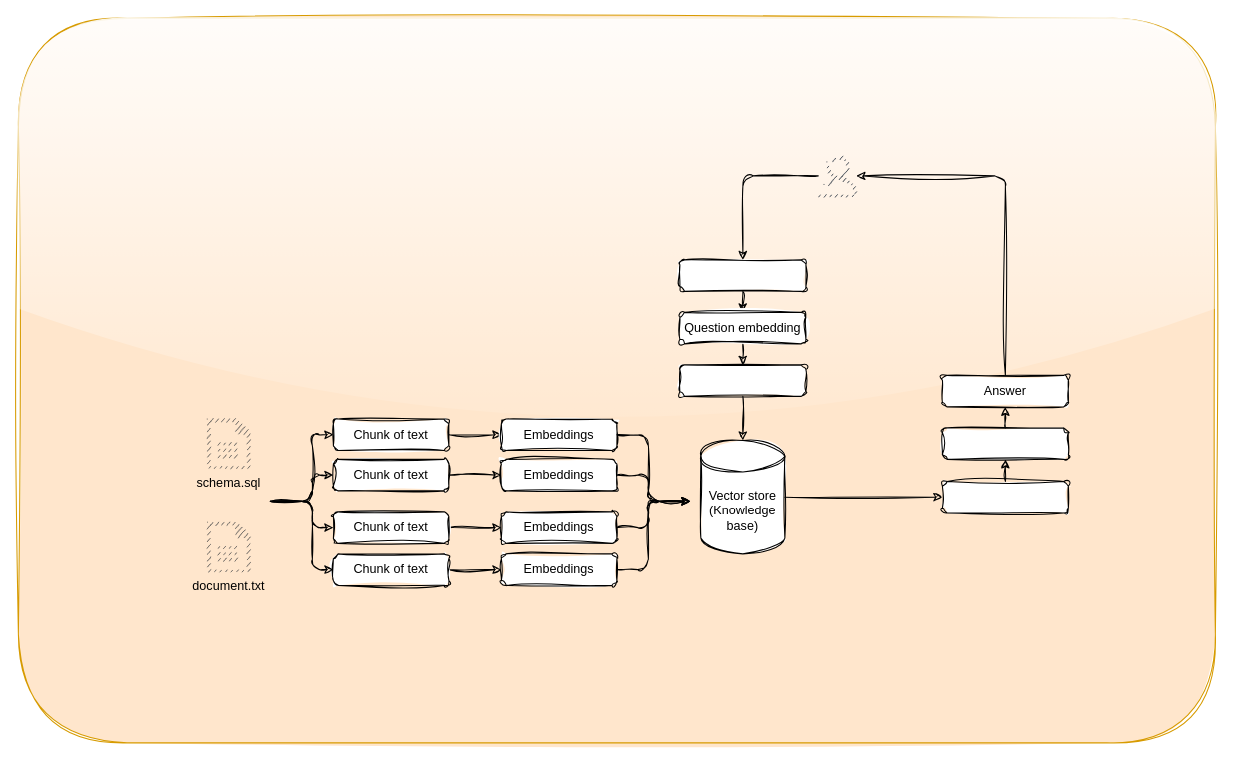
This 1234x761 diagram has some shape labels left out. Here are the shapes that lost their labels. From the top down, the box of each, then its label:
(816, 154, 858, 196): User
(679, 259, 806, 291): Question
(679, 364, 806, 396): Semantic search
(941, 427, 1068, 459): LLM
(941, 480, 1068, 513): Ranked results
